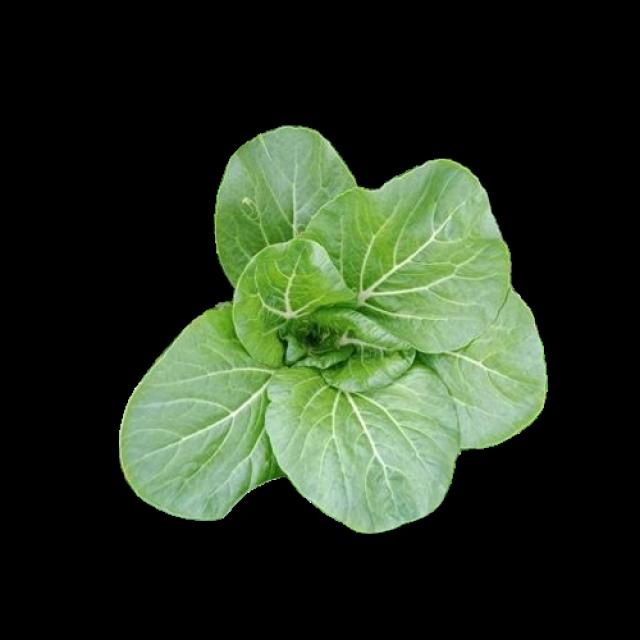healthy: (123, 124, 546, 529)
mature: (126, 127, 549, 531)
